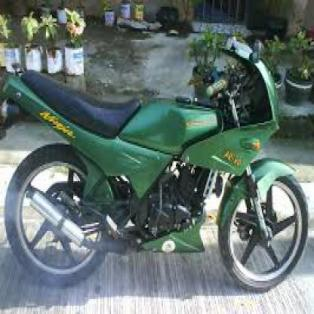Motocicleta: (4, 39, 311, 294)
